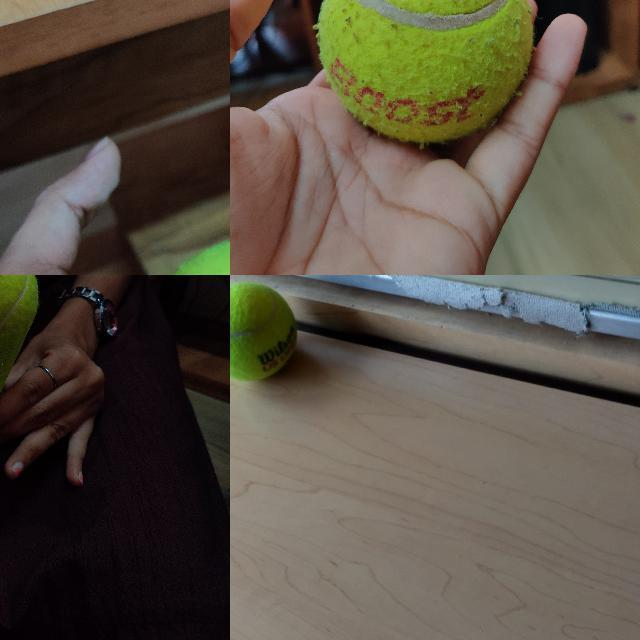tennis-ball: (317, 0, 533, 142), (230, 281, 299, 382)
